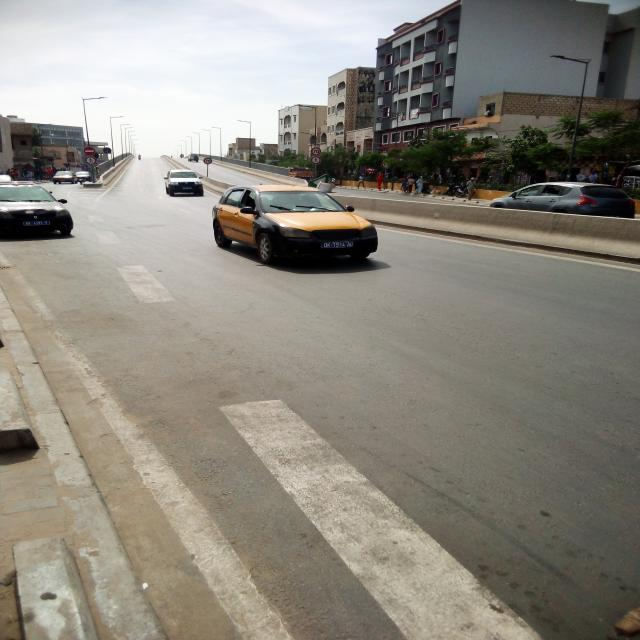moto: (448, 184, 469, 199)
particulier: (491, 182, 636, 220), (1, 182, 74, 236), (164, 171, 204, 197), (189, 155, 201, 164)
taxi: (214, 186, 379, 265), (53, 172, 79, 185), (76, 172, 94, 185)
